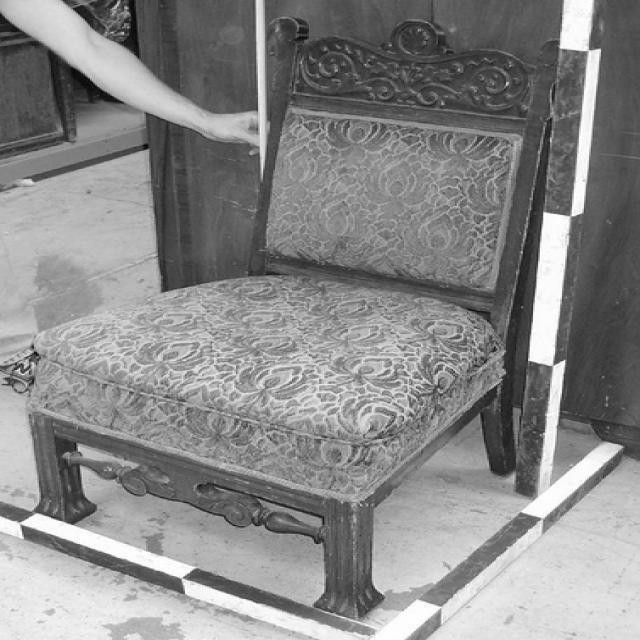chair: (24, 43, 556, 621)
